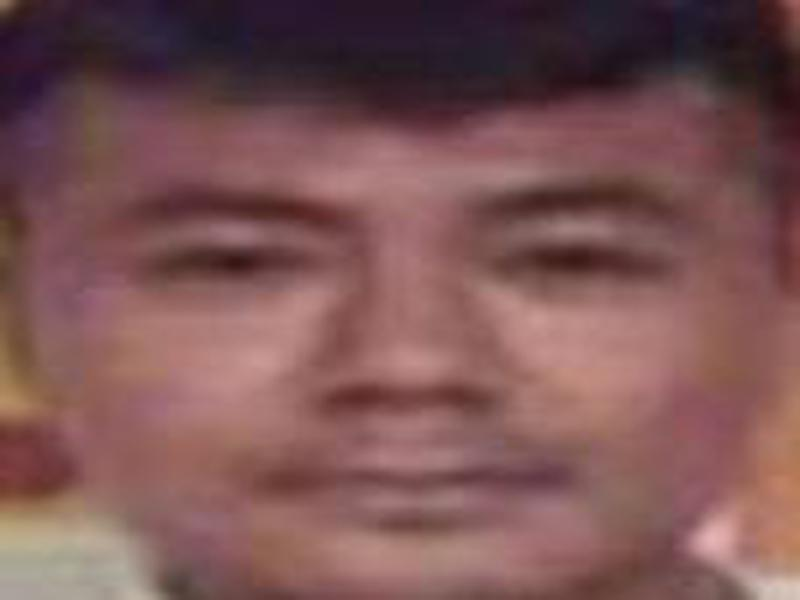without_mask: (25, 87, 759, 593)
